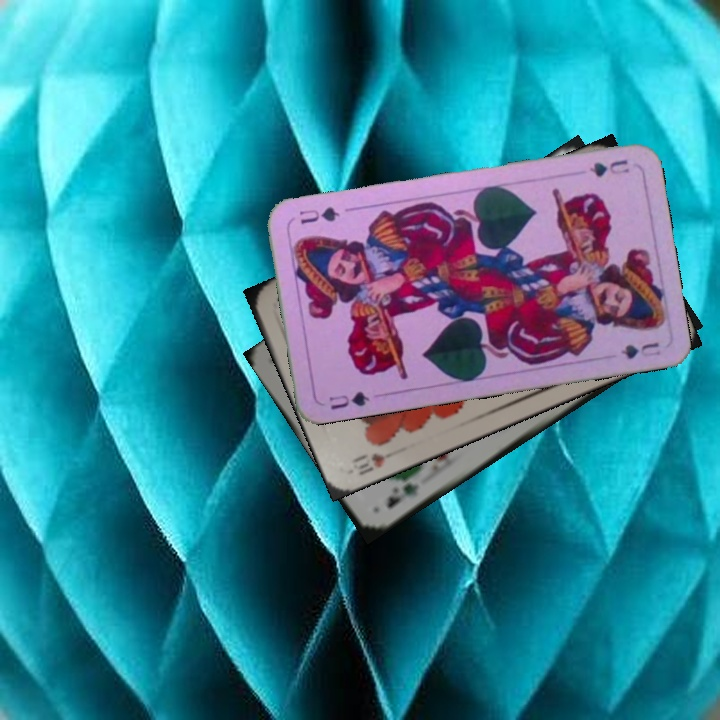GK: (382, 479, 422, 511)
GU: (324, 387, 372, 413), (585, 155, 632, 180)
H10: (348, 449, 388, 478)
